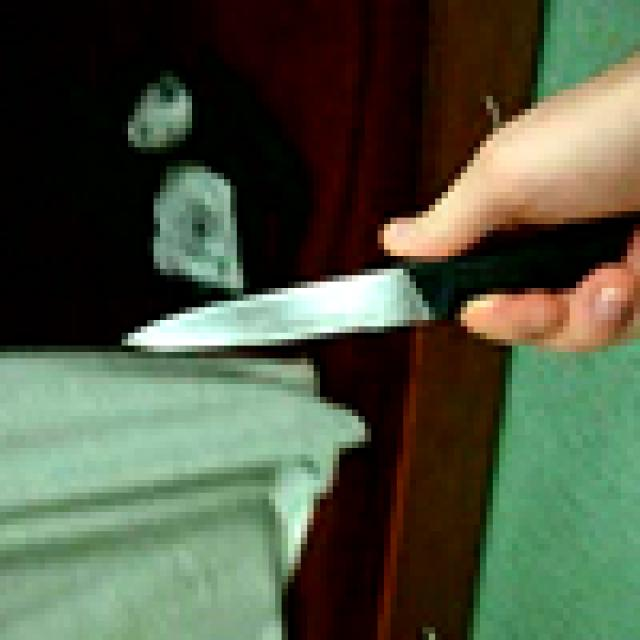Knife: (128, 212, 640, 358)
